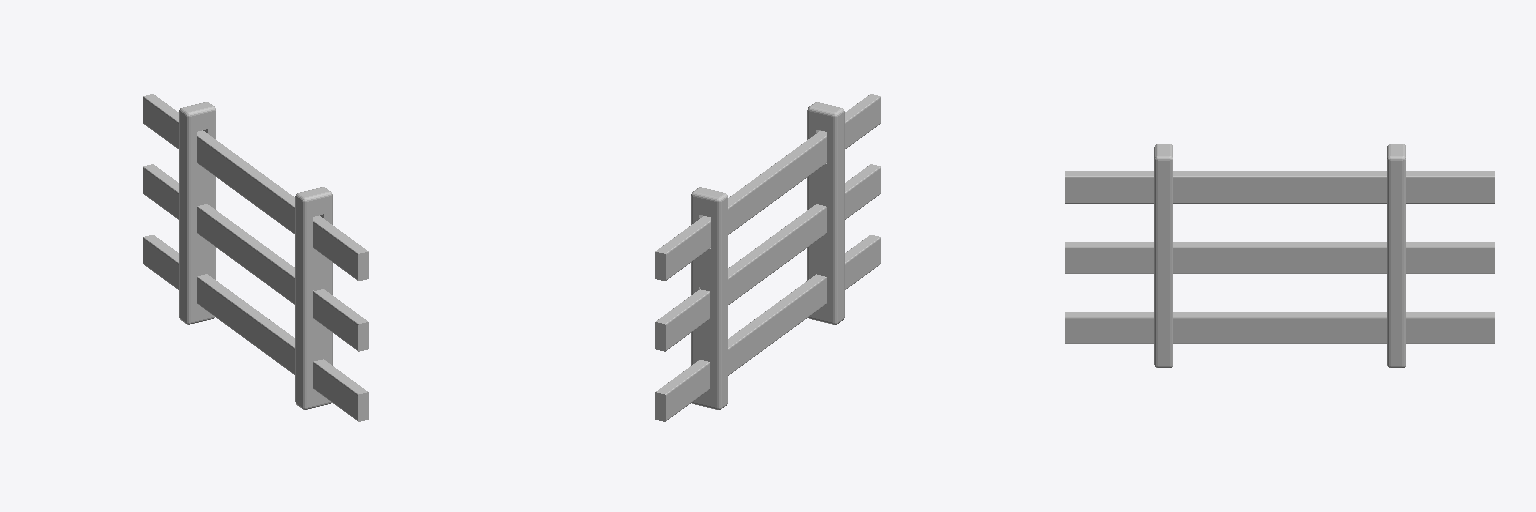
The model's file is fence2.obj.
3 renders of one model, left to right at view 1: azimuth 30°, elevation 25°; view 2: azimuth 150°, elevation 25°; view 3: azimuth 270°, elevation 25°, orthographic.
Parts seen in each view (by area): view 1: Cube.003_Cube.005, Cube.001_Cube.003, Cube.002_Cube.004, Cube.004_Cube.006, Cube; view 2: Cube.003_Cube.005, Cube.001_Cube.003, Cube.002_Cube.004, Cube.004_Cube.006, Cube; view 3: Cube.003_Cube.005, Cube.001_Cube.003, Cube.002_Cube.004, Cube, Cube.004_Cube.006.
Part boxes in pixels (x1,y1,x2,y2): Cube.003_Cube.005: (143,94,368,280); Cube.001_Cube.003: (143,164,368,351); Cube.002_Cube.004: (143,235,368,421); Cube.004_Cube.006: (295,187,332,409); Cube: (179,102,215,324); Cube.003_Cube.005: (655,94,880,280); Cube.001_Cube.003: (655,164,880,351); Cube.002_Cube.004: (655,235,880,421); Cube.004_Cube.006: (807,102,844,324); Cube: (691,187,727,409); Cube.003_Cube.005: (1065,171,1494,203); Cube.001_Cube.003: (1065,242,1494,273); Cube.002_Cube.004: (1065,312,1494,343); Cube: (1387,144,1405,367); Cube.004_Cube.006: (1154,144,1172,367).
Bounding box in the file's own units: 0.6803 × 4.53 × 8.33.